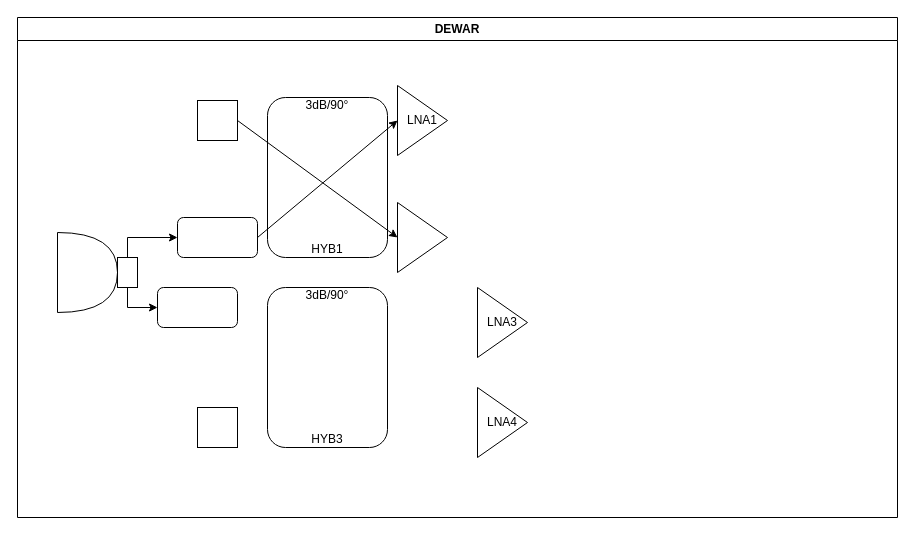
This 915x535 diagram has some shape labels left out. The box of each missing label's shape, as (x1, y1, x2, y2) in pixels:
30dB COUP1: (176, 216, 258, 258)
30dB COUP2: (156, 286, 238, 328)
LNA2: (396, 202, 448, 272)
